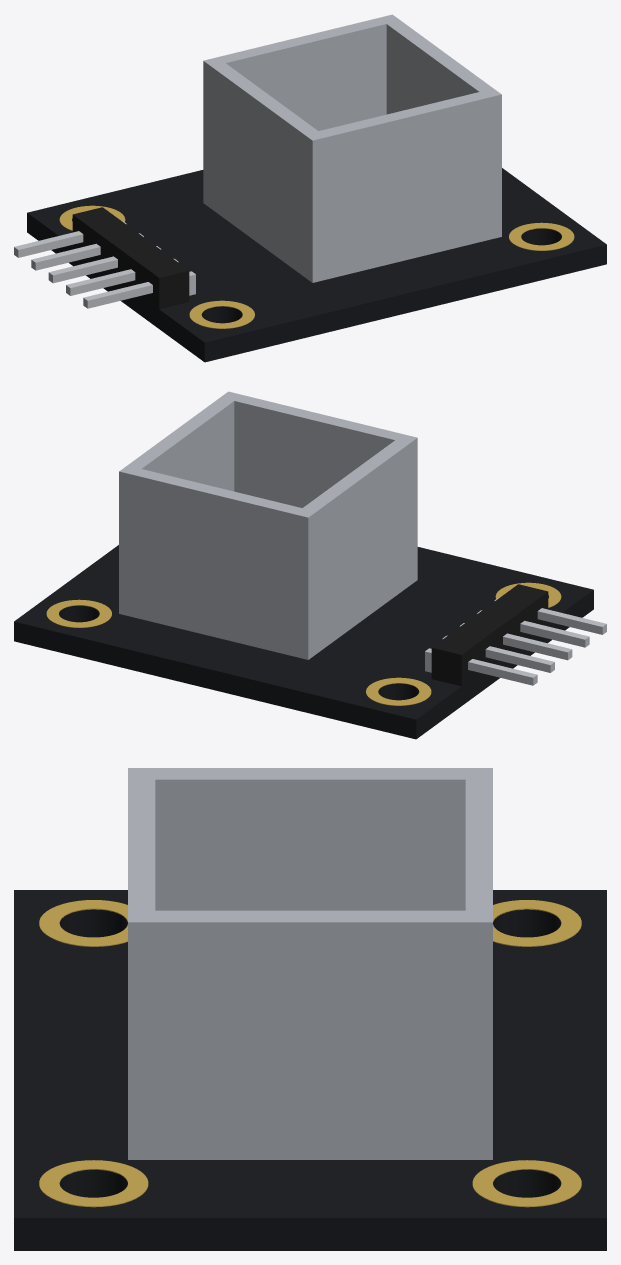
File: joystick-ky023.glb
3 renders of one model, top to bottom at view 1: azimuth 30°, elevation 25°; view 2: azimuth 150°, elevation 25°; view 3: azimuth 270°, elevation 25°, orthographic. The views are drawn at different scales.
Parts seen in each view (by area): view 1: object 3, object 1, object 2, housing-5, pin-5, housing-4, housing-3, housing-1, housing-2, pin-1, pin-4, pin-2 (+1 smaller); view 2: object 3, object 1, object 2, housing-1, pin-1, housing-2, housing-3, housing-5, housing-4, pin-5, pin-2, pin-3 (+1 smaller); view 3: object 3, object 1, object 2.
Boxes of the visible parts, x1,y1,x2,y2 form: object 3: (203, 14, 501, 282); object 1: (27, 168, 606, 362); object 2: (59, 205, 574, 328); housing-5: (142, 258, 189, 309); pin-5: (83, 271, 195, 308); housing-4: (124, 245, 171, 296); housing-3: (107, 232, 154, 283); housing-1: (72, 207, 119, 258); housing-2: (90, 220, 136, 270); pin-1: (14, 220, 126, 257); pin-4: (66, 258, 178, 295); pin-2: (31, 233, 143, 270); object 3: (119, 391, 417, 659); object 1: (14, 545, 593, 739); object 2: (46, 582, 561, 705); housing-1: (431, 635, 478, 686); pin-1: (425, 648, 537, 685); housing-2: (449, 622, 496, 673); housing-3: (466, 609, 513, 660); housing-5: (501, 584, 548, 635); housing-4: (484, 597, 530, 647); pin-5: (494, 597, 606, 634); pin-2: (442, 635, 554, 672); pin-3: (459, 623, 572, 660); object 3: (128, 768, 492, 1159); object 1: (14, 890, 606, 1250); object 2: (39, 900, 581, 1207).
Size of the model in its own units: 0.0395 by 0.0131 by 0.026.
